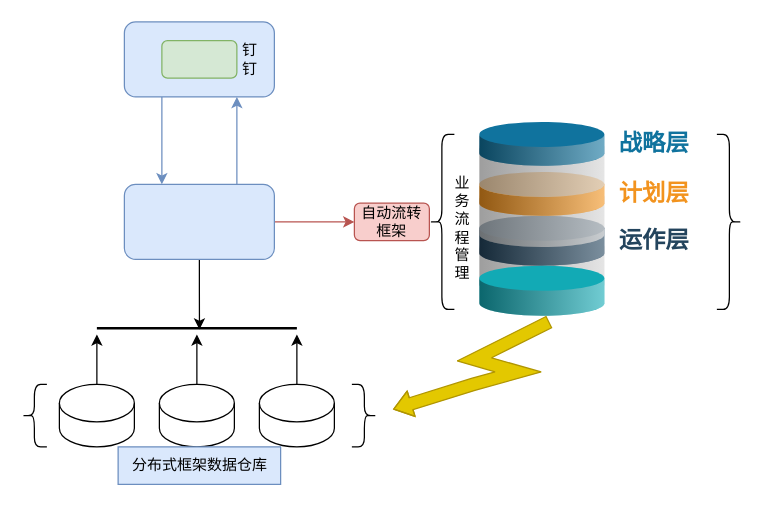
The diagram is 764 pixels wide and 506 high, and some of its shapes have lost their labels. The shapes that lost their labels are listed below. From the top down, each one's centre as x and y in pixels, then its label:
At [199,58]: "管控系统".
At [198,221]: "JavaScript".
At [541,290]: "生产流程".
